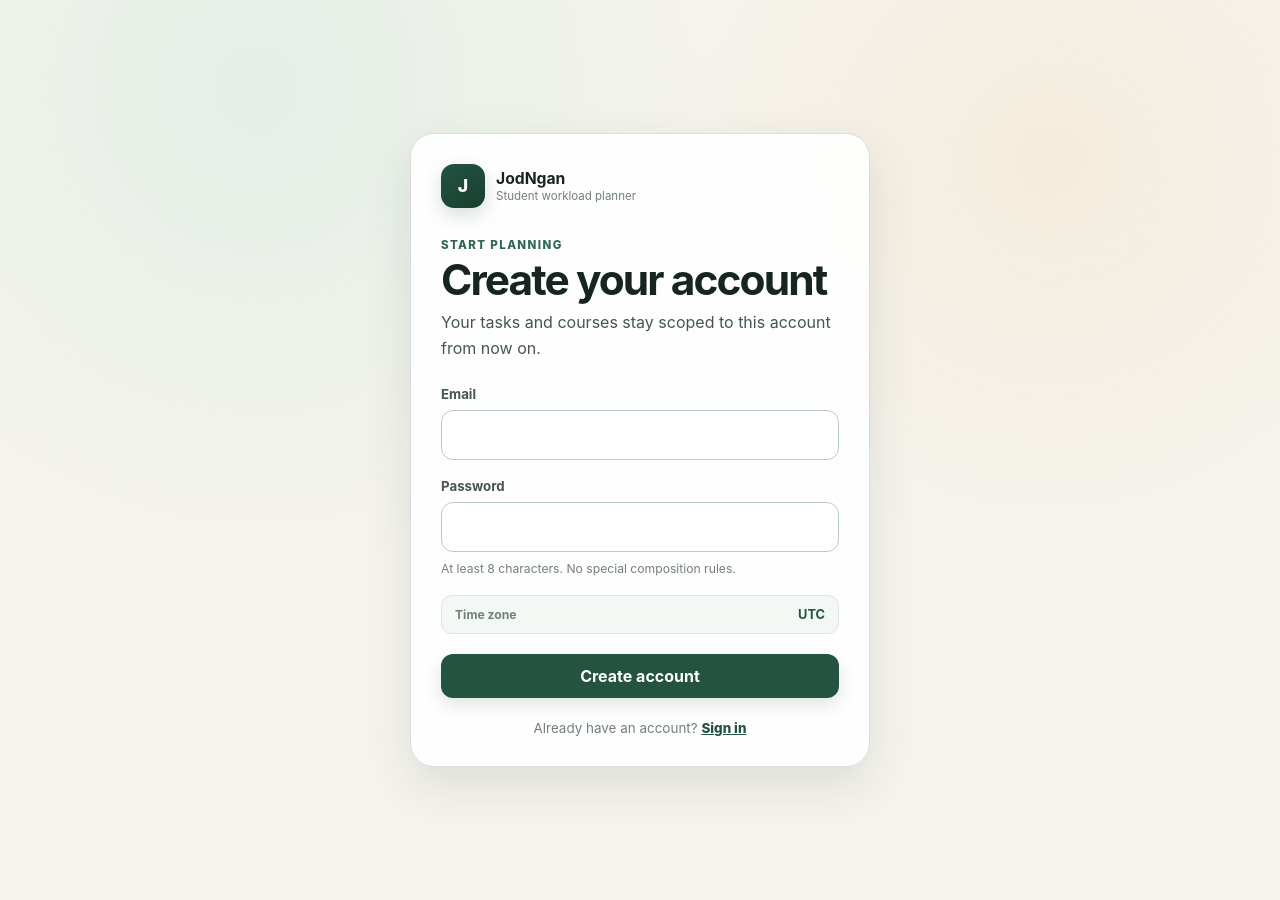
authentication flow › registers with the detected time zone and opens Today
Expected: the heading "Create your account" is shown, [441, 258, 839, 302]
Type "student@example.com" into the field labelled "Email". click: [640, 434]
box: [441, 410, 839, 460]
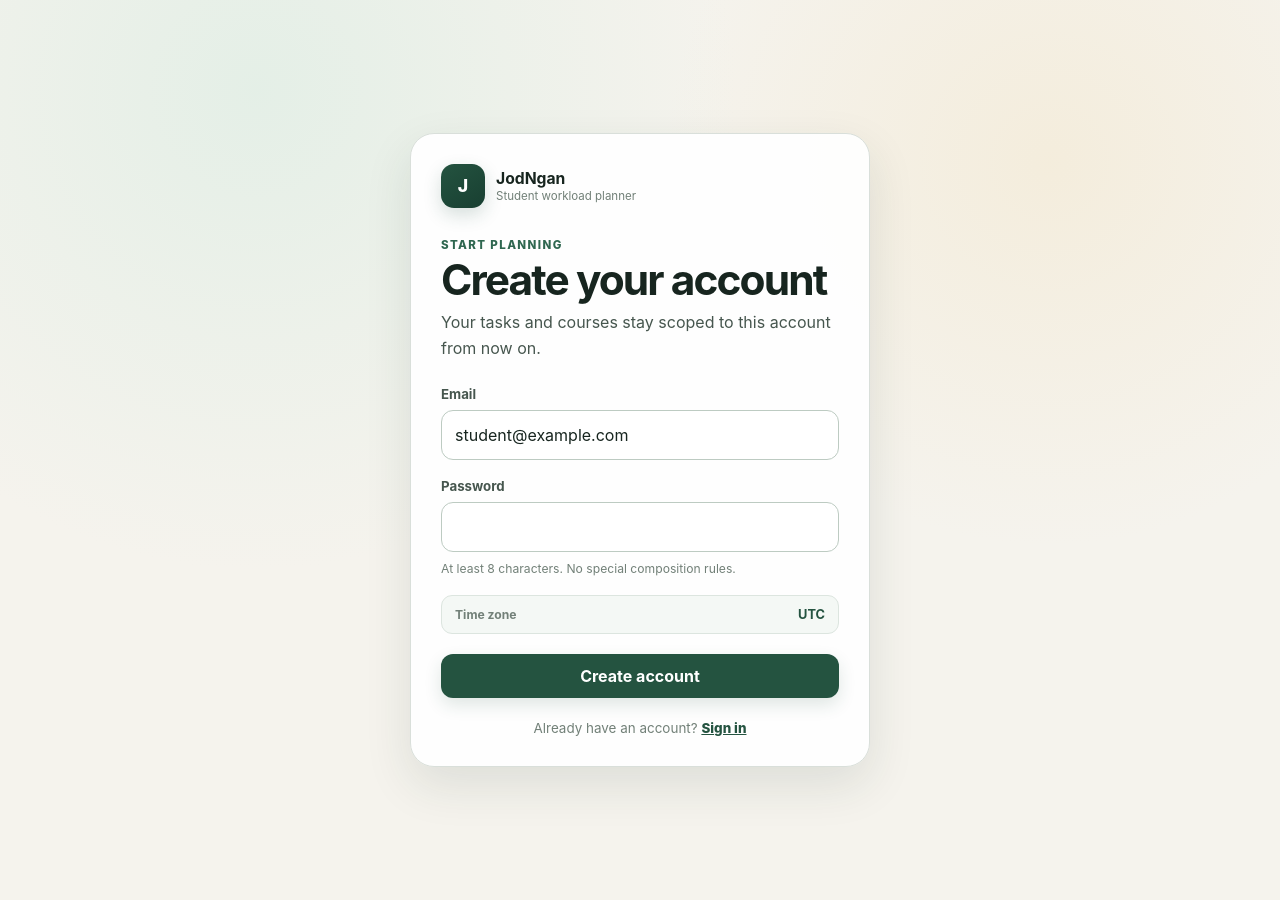
Type "password123" into the password field labelled "Password". click: [640, 526]
box: [441, 502, 839, 552]
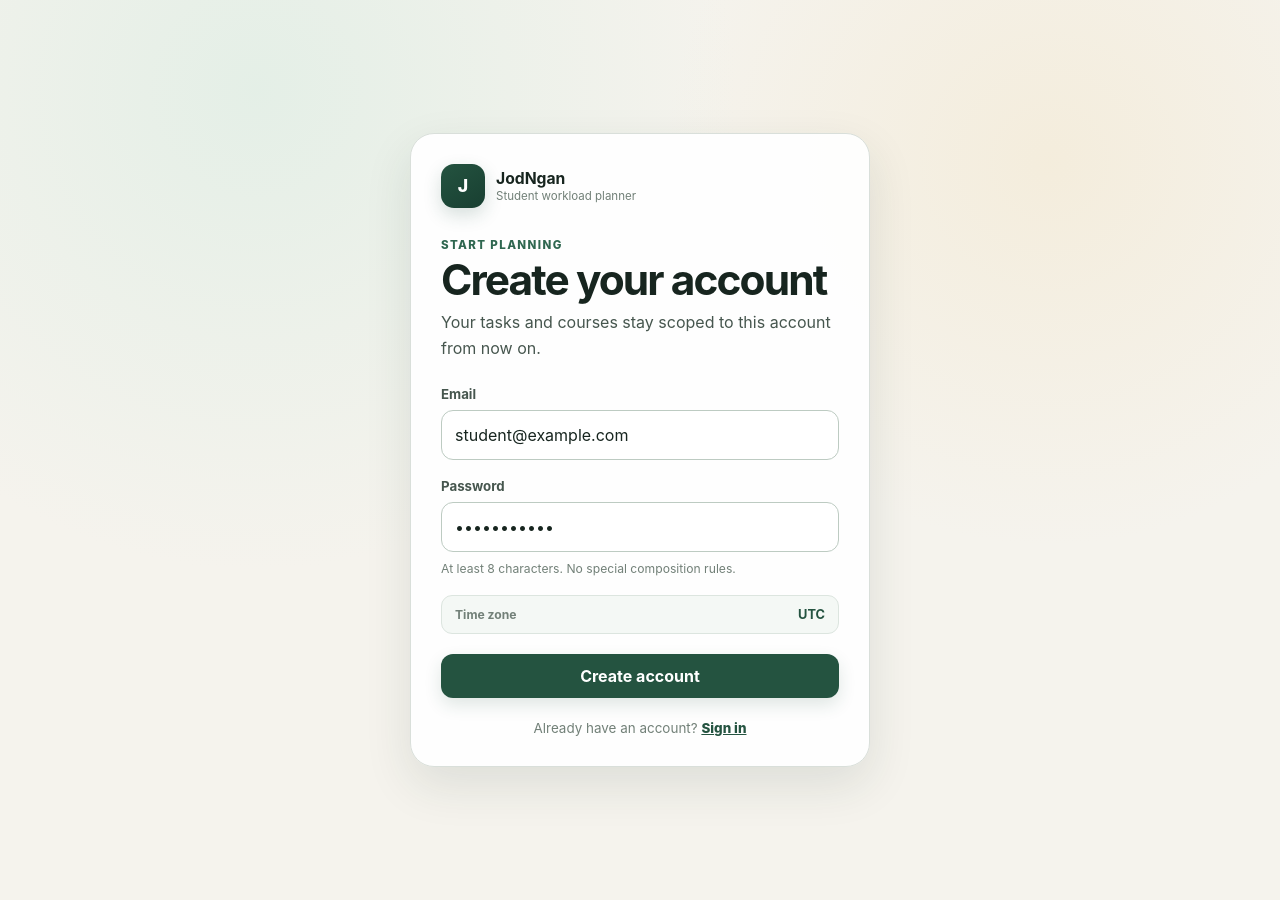
Click the button "Create account". click: [640, 676]
box: [441, 654, 839, 698]
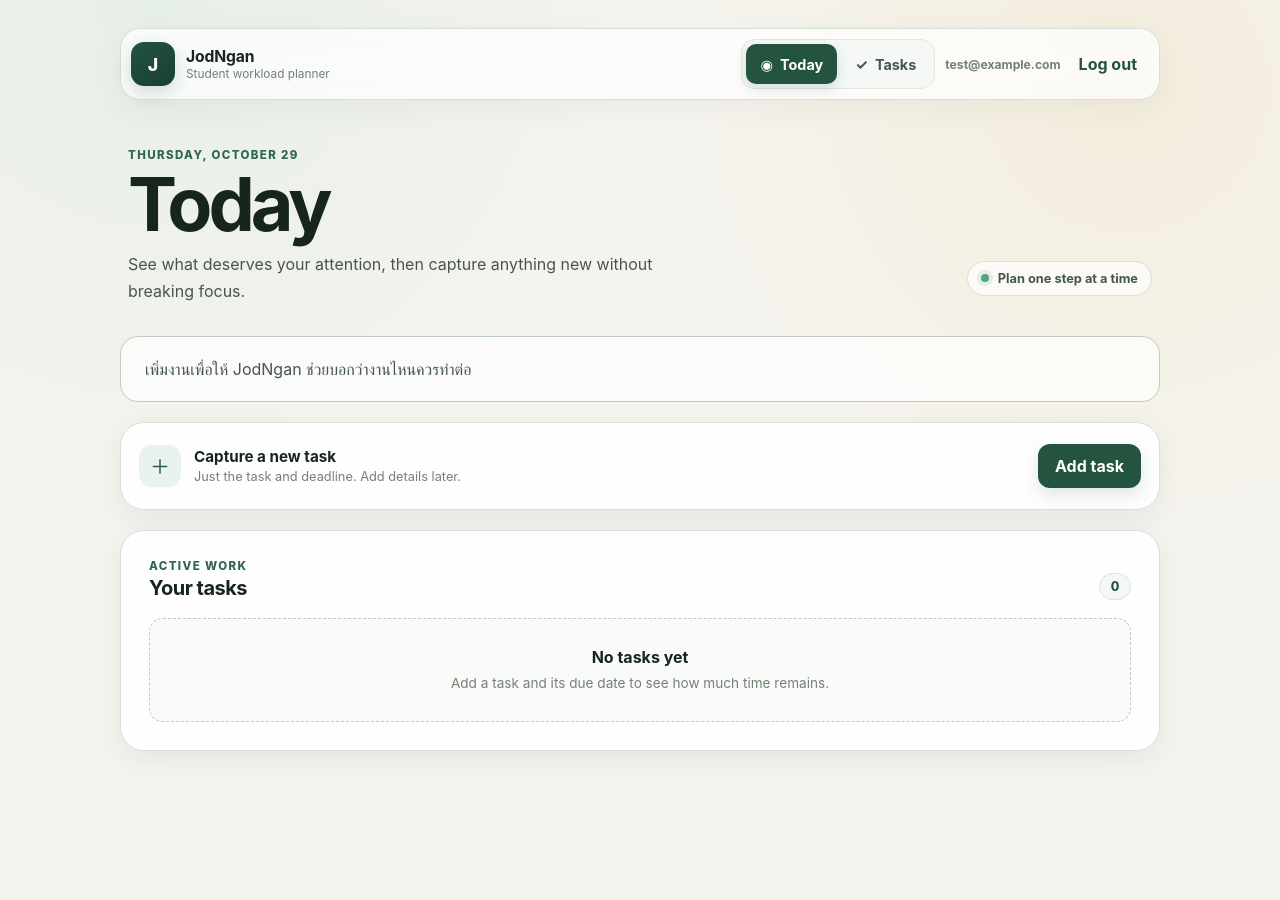
Now the heading "Today" is shown, box [128, 160, 328, 249]
